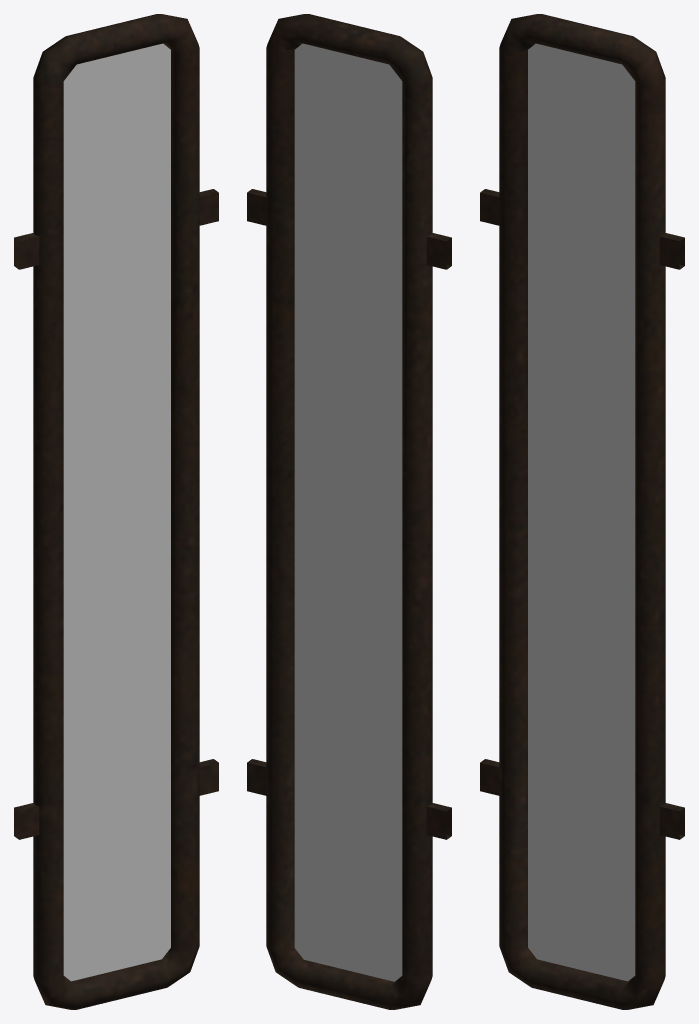
File: fence_e_pillar_1.fbx
The picture shows the model from 3 angles, left to right: view 1: azimuth 30°, elevation 25°; view 2: azimuth 150°, elevation 25°; view 3: azimuth 330°, elevation 25°; orthographic projection.
Parts seen in each view (by area): view 1: fence_e_pillar_1; view 2: fence_e_pillar_1; view 3: fence_e_pillar_1.
Boxes of the visible parts, x1=… form: fence_e_pillar_1: x1=14, y1=14, x2=218, y2=1009; fence_e_pillar_1: x1=247, y1=14, x2=451, y2=1009; fence_e_pillar_1: x1=480, y1=14, x2=684, y2=1009.
Size of the model in its own units: 0.44 by 0.06 by 2.05.
